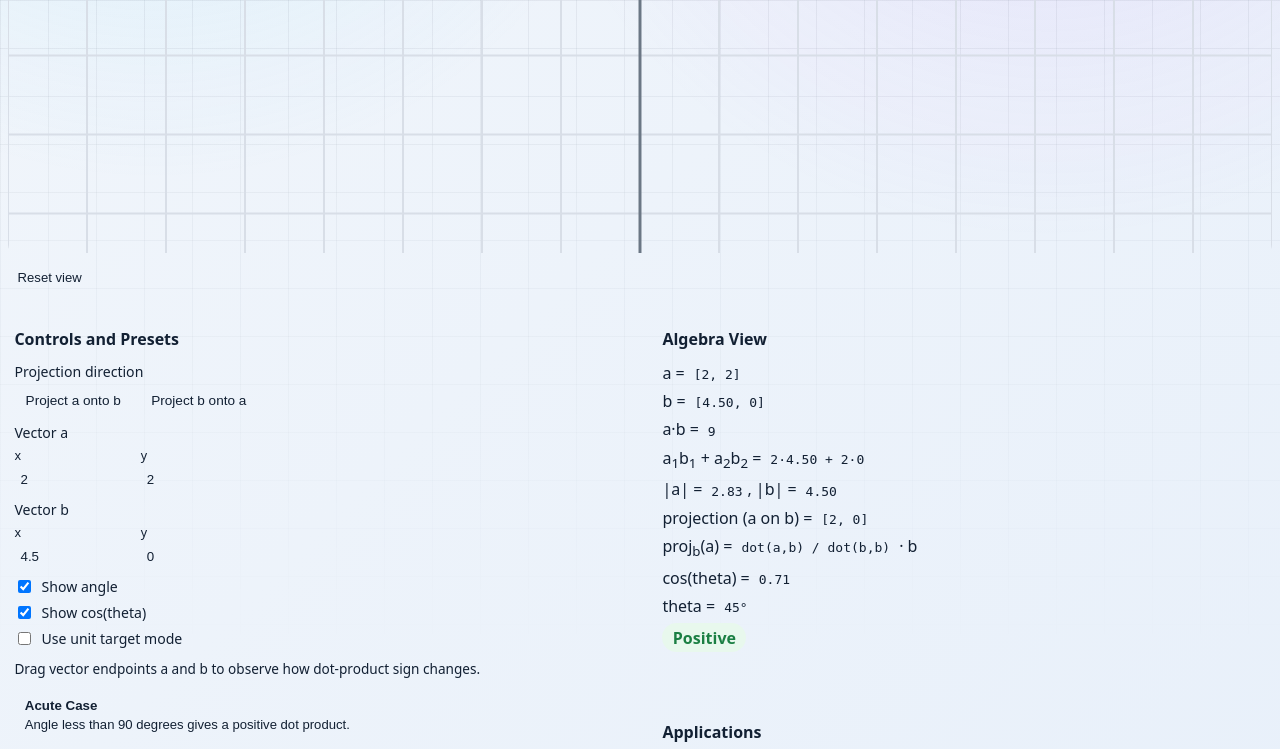
Test: DotProductModule › allows switching projection direction
(page scrolled)
Click the button "Project b onto a" at point(199, 401), box top-left (140, 388), bottom-right (258, 414)
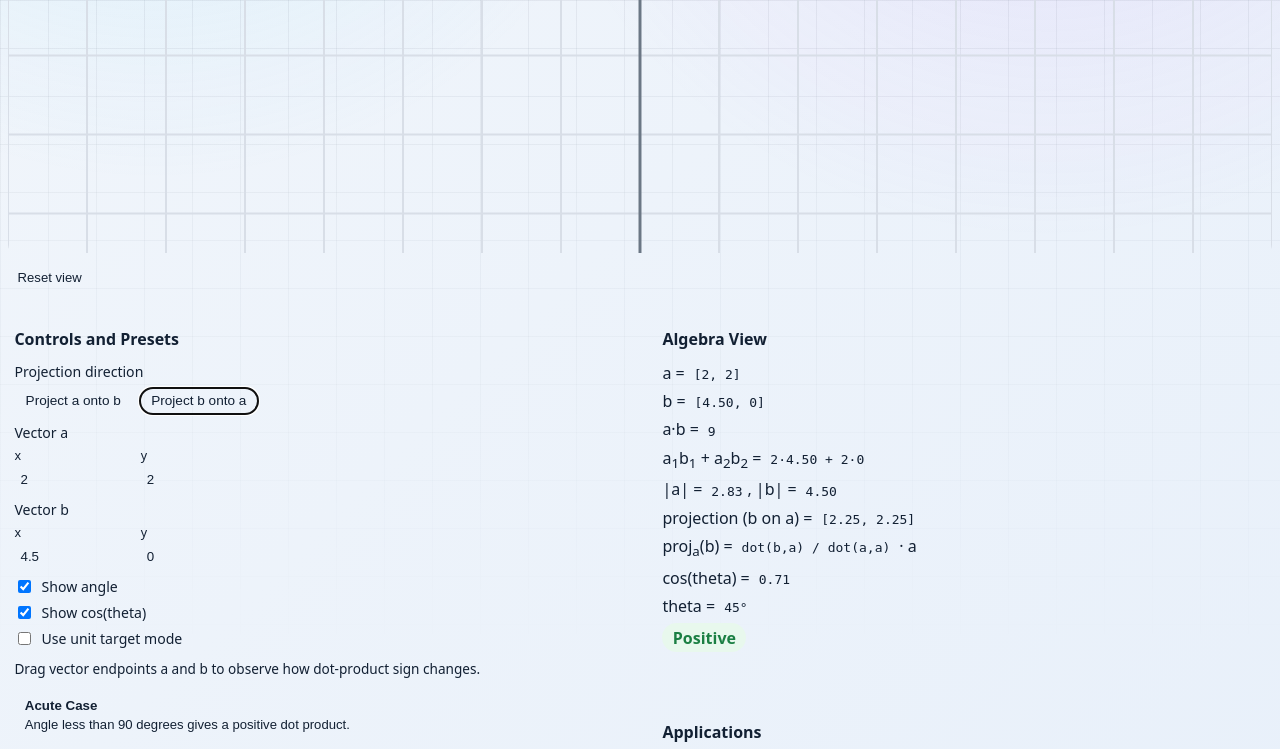
expect the text "projection (b on a) = [2.25, 2.25]" is shown: met, box top-left (662, 507), bottom-right (915, 529)
